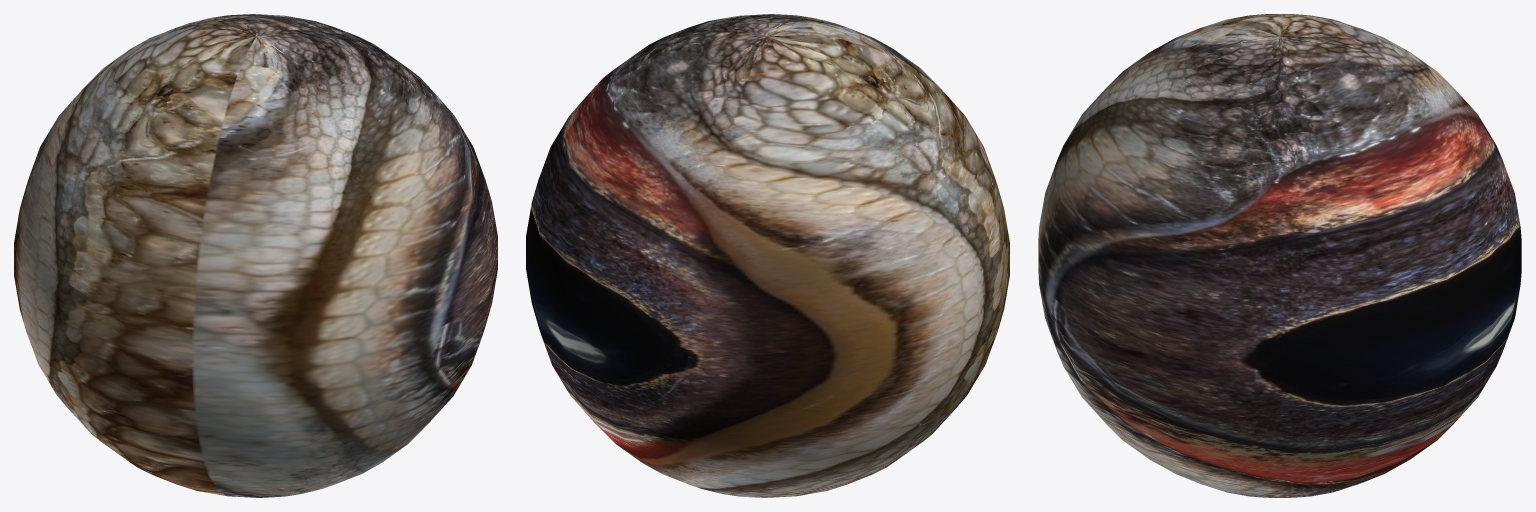
The model's file is eye2.gltf.
The picture shows the model from 3 angles, left to right: view 1: azimuth 30°, elevation 25°; view 2: azimuth 150°, elevation 25°; view 3: azimuth 270°, elevation 25°; orthographic projection.
Visible parts, largest first — view 1: SphèreSurf; view 2: SphèreSurf; view 3: SphèreSurf.
Boxes of the visible parts, x1,y1,x2,y2 form: SphèreSurf: [14, 14, 497, 497]; SphèreSurf: [526, 14, 1009, 497]; SphèreSurf: [1038, 14, 1521, 497].
Bounding box in the file's own units: 4.36 × 4.37 × 4.36.
1 material, 1 textured.
